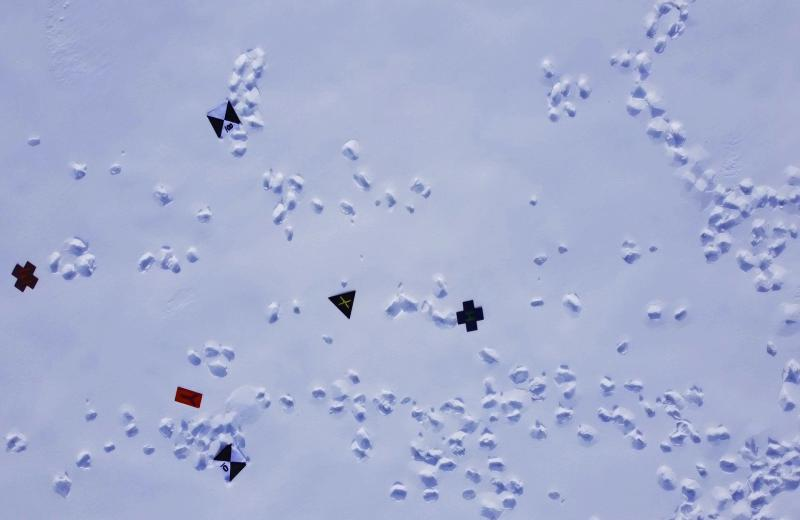Cross: (454, 297, 487, 335), (9, 258, 40, 294)
Rectangle: (171, 382, 204, 412)
Triangle: (325, 286, 358, 321)
